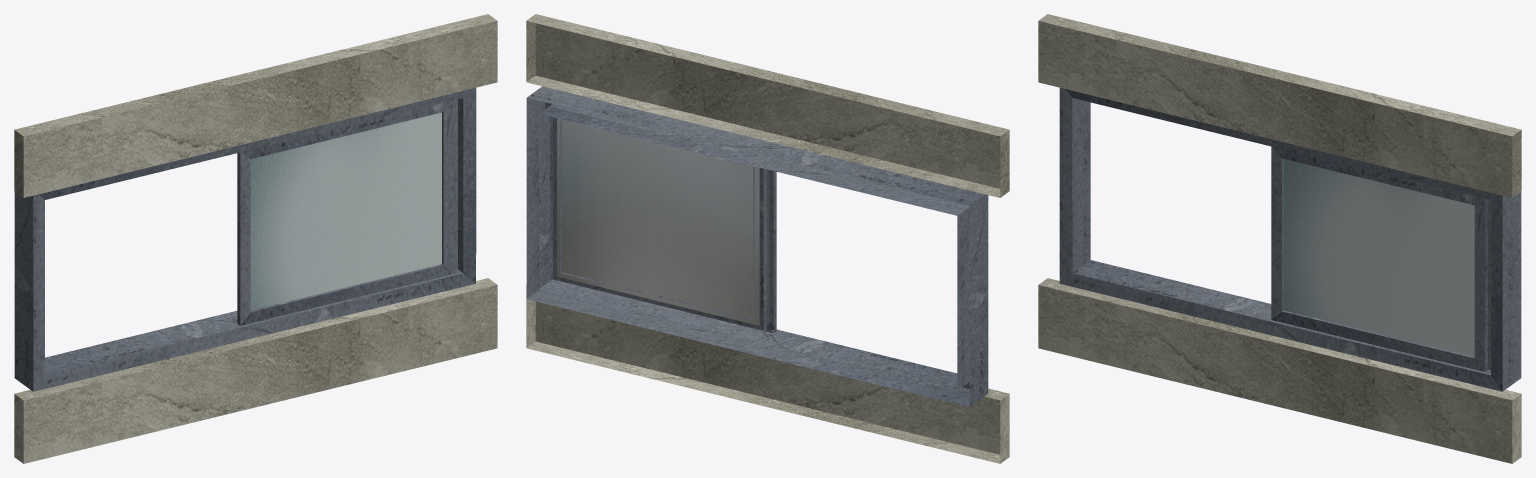
Rendered from Window_0.5m_003.fbx.
3 renders of one model, left to right at view 1: azimuth 30°, elevation 25°; view 2: azimuth 150°, elevation 25°; view 3: azimuth 330°, elevation 25°, orthographic.
Visible parts, largest first — view 1: Window_0.5m_003; view 2: Window_0.5m_003; view 3: Window_0.5m_003.
Part boxes in pixels (x1,y1,x2,y2): Window_0.5m_003: (14,14,497,463); Window_0.5m_003: (526,14,1009,463); Window_0.5m_003: (1038,14,1521,463).
Size of the model in its own units: 75.73 by 50 by 6.82.
Materials: 1 (1 with a texture image).
